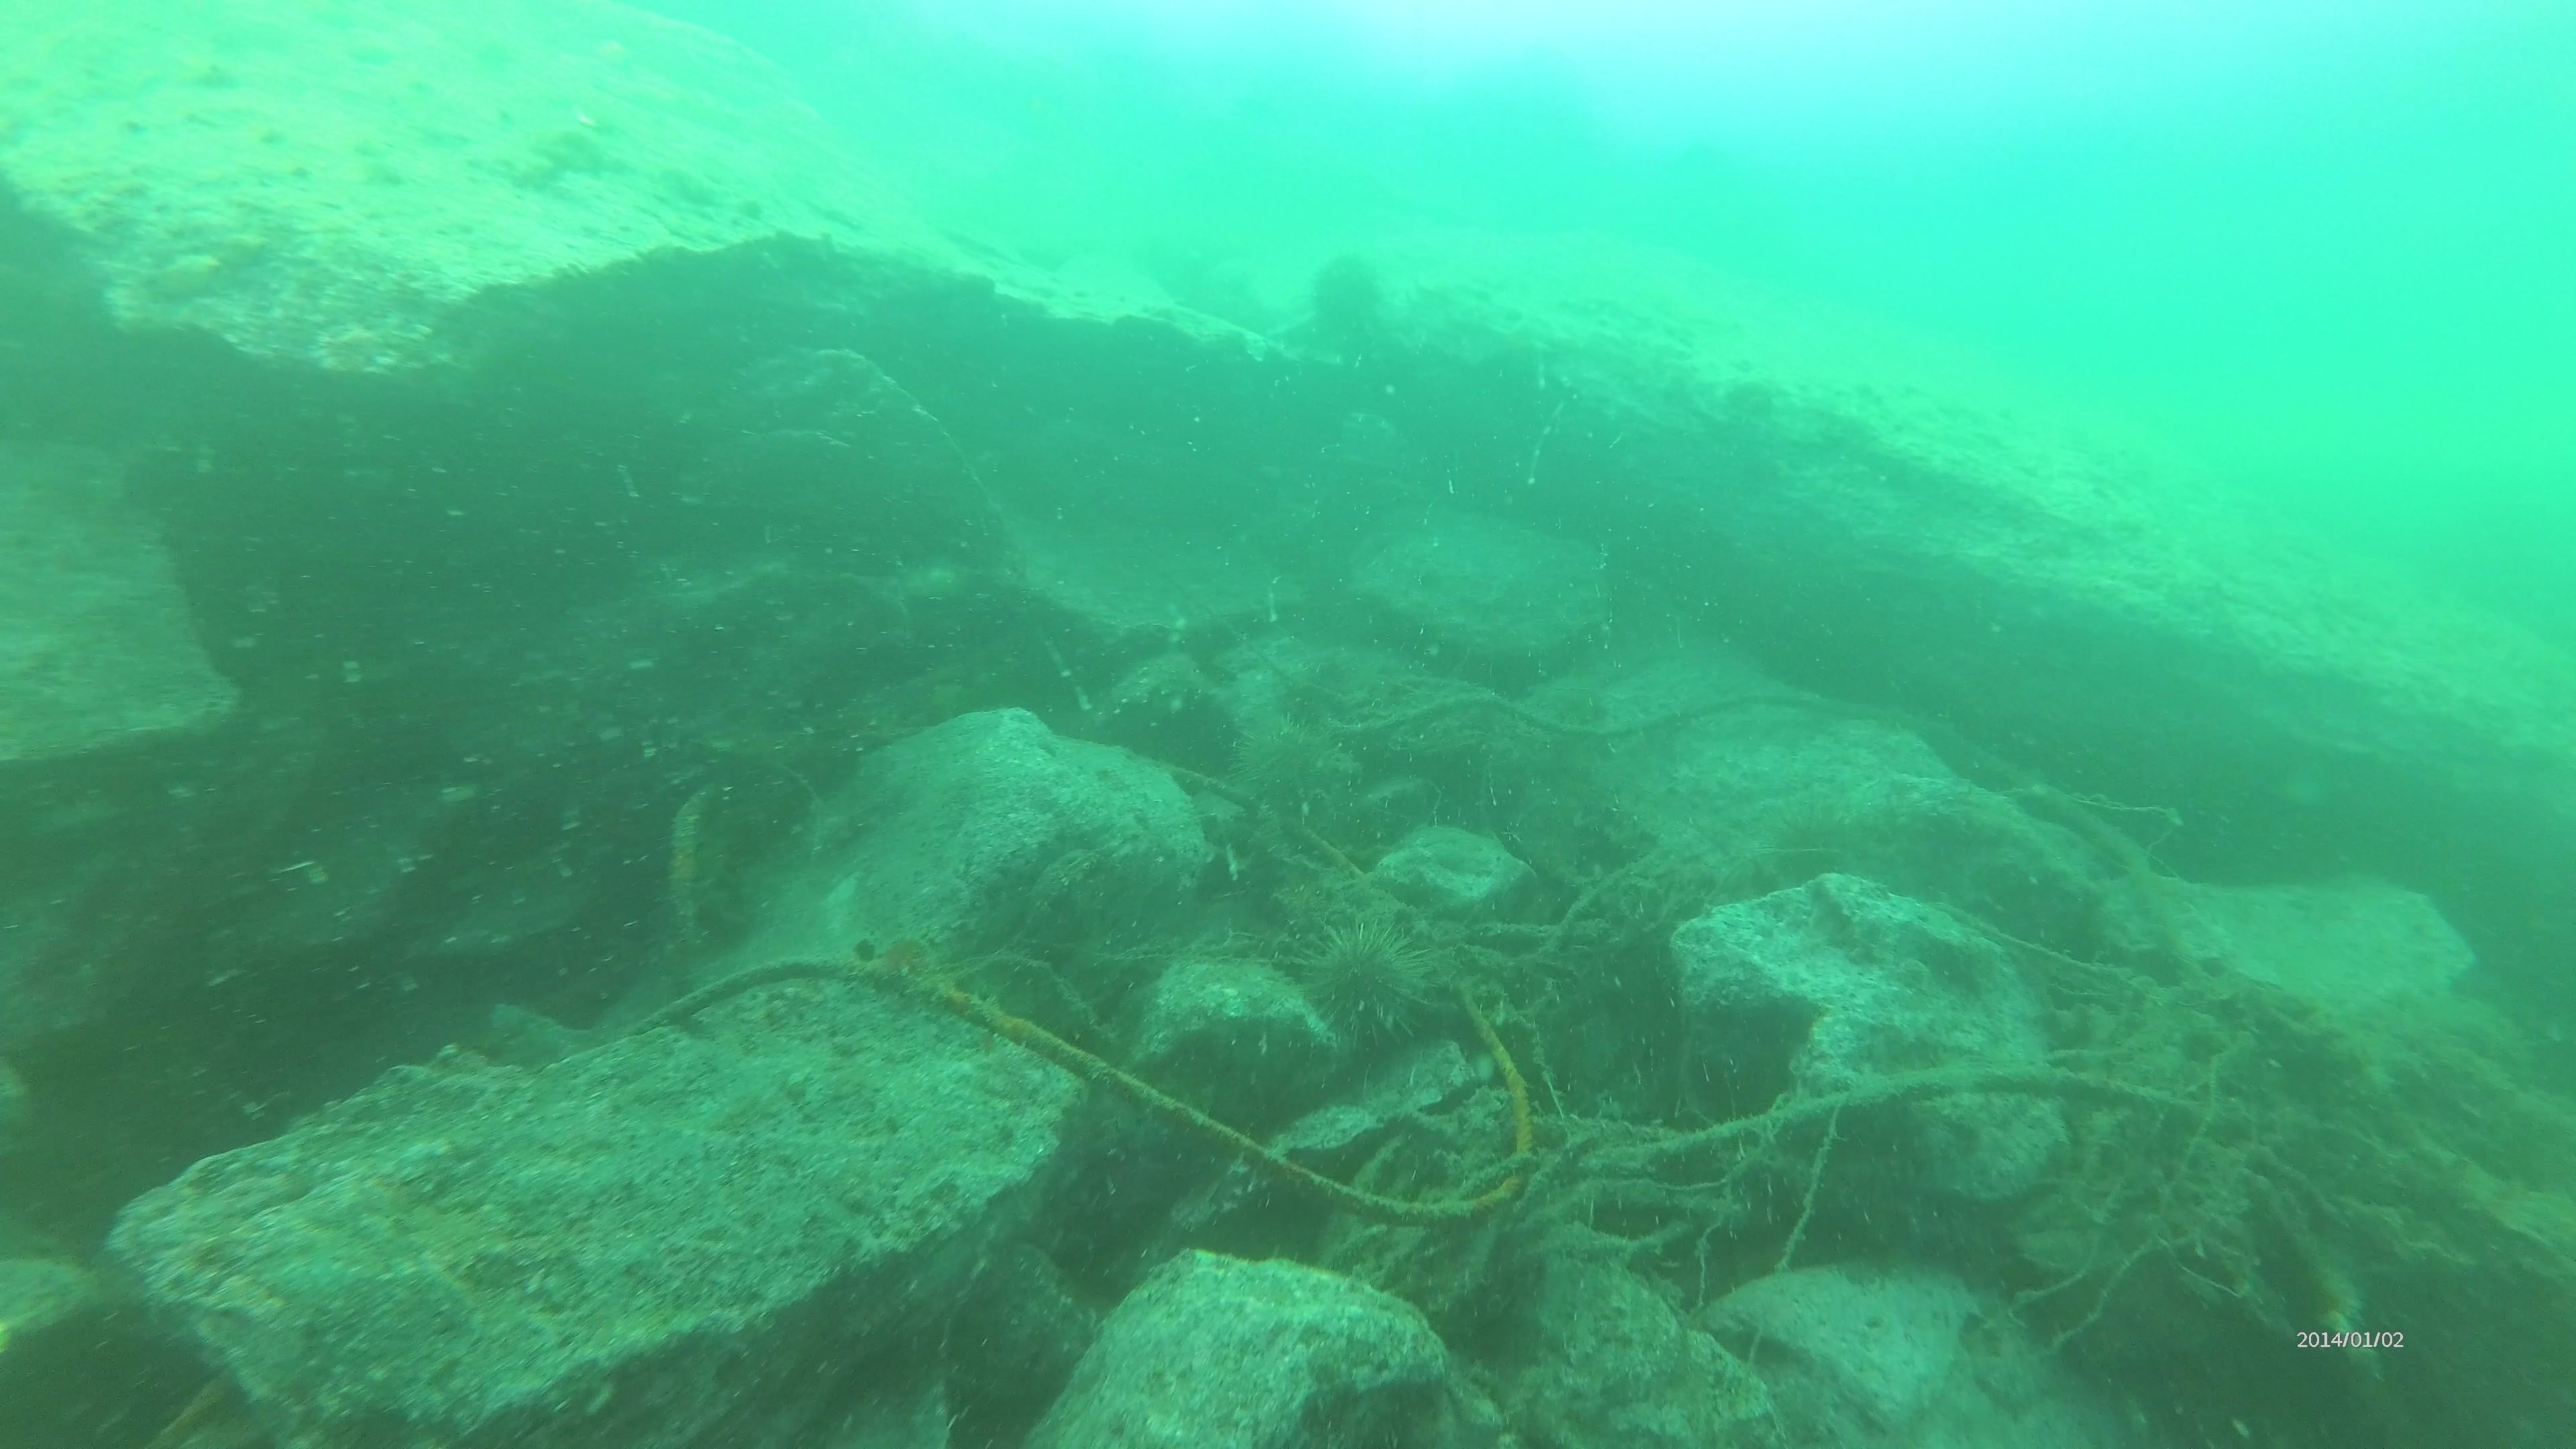echinus: (1284, 913, 1440, 1053), (1299, 248, 1394, 349)
